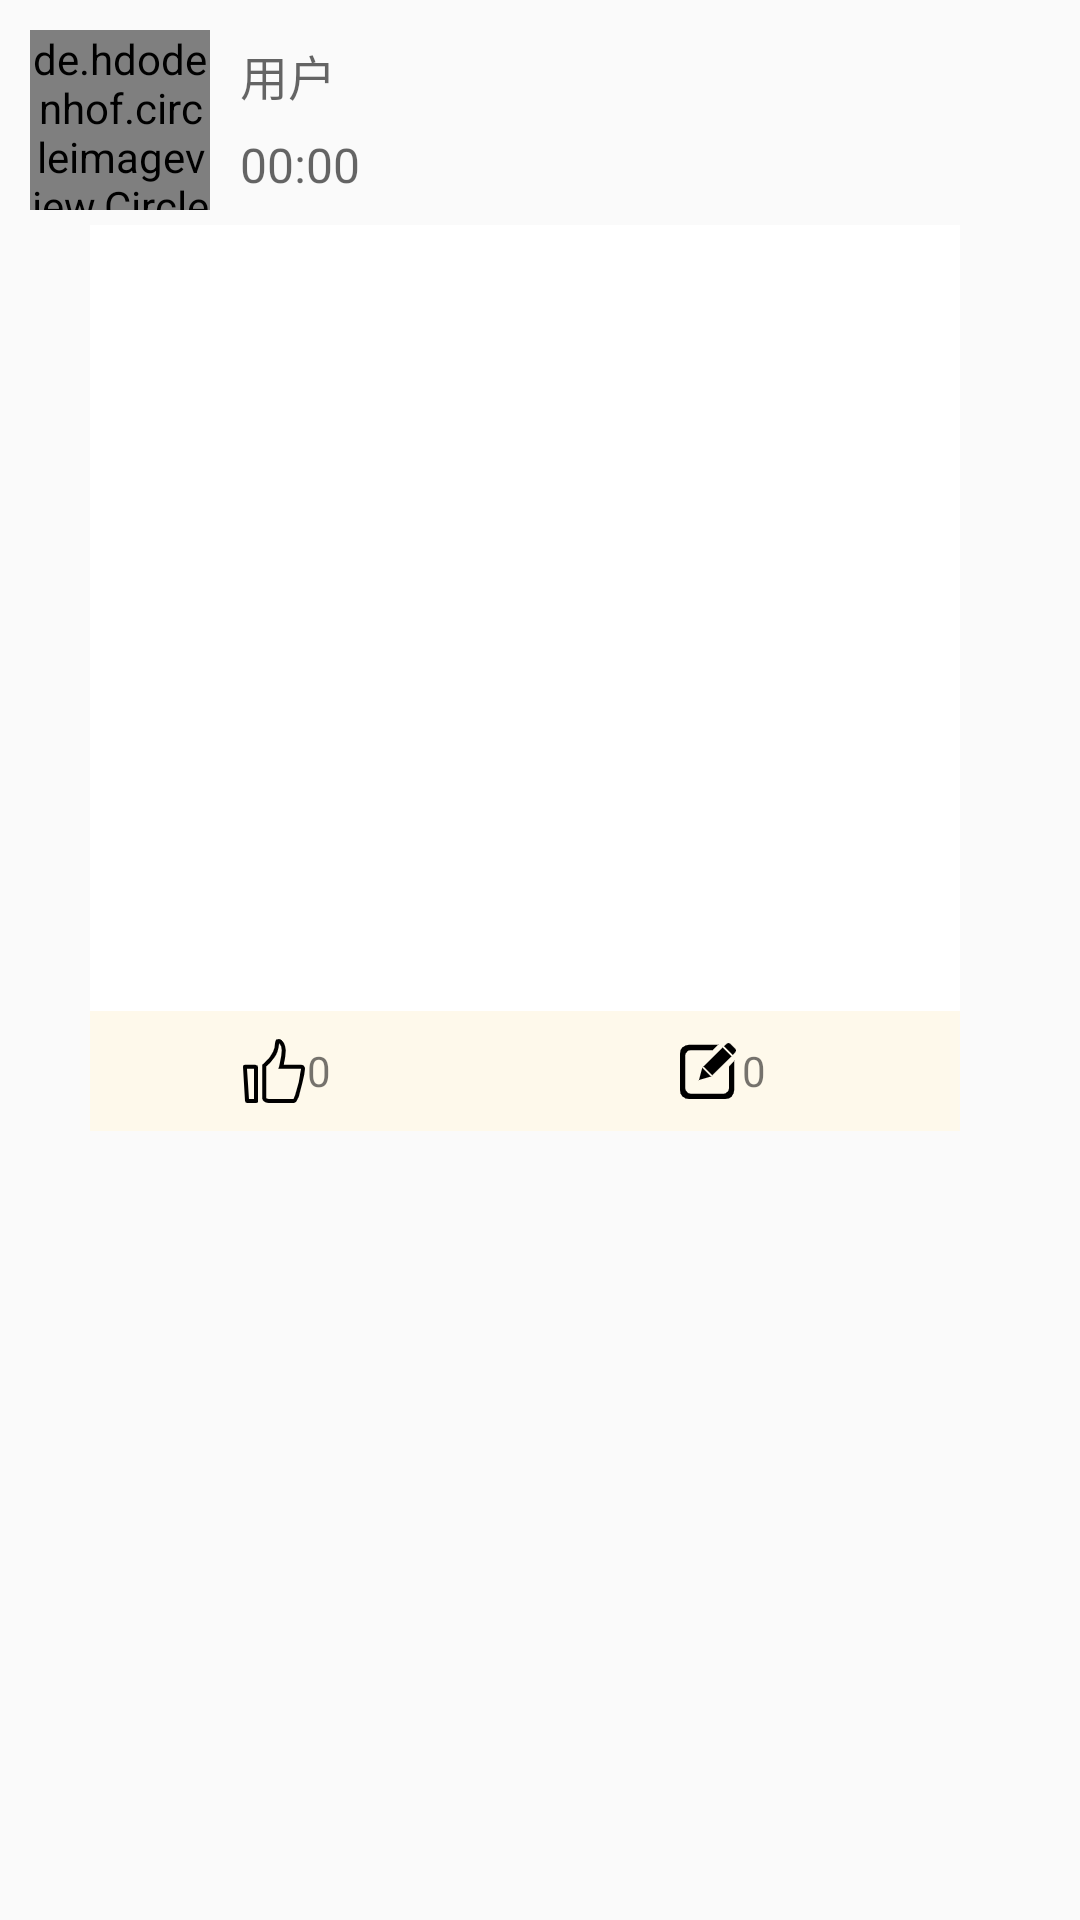

Icons on this 1080×1920 Android screen, each with its box as (x1, y1, x2, y2):
discover comment: (680, 1043, 736, 1099)
